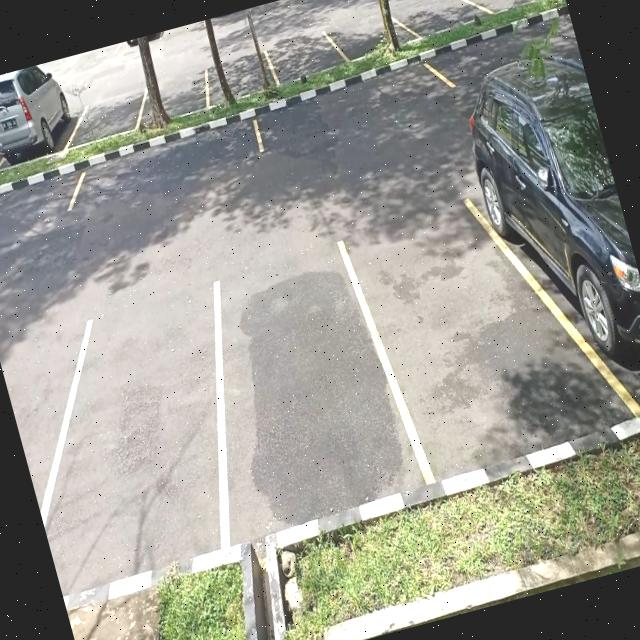empty: (180, 244, 424, 548), (17, 284, 250, 590), (355, 194, 574, 486), (254, 58, 459, 167), (68, 118, 272, 218), (70, 82, 154, 151), (333, 8, 418, 75), (140, 66, 219, 133), (270, 34, 349, 96), (204, 55, 284, 116), (402, 0, 479, 48)
occupied: (476, 88, 640, 440), (0, 76, 85, 177)
